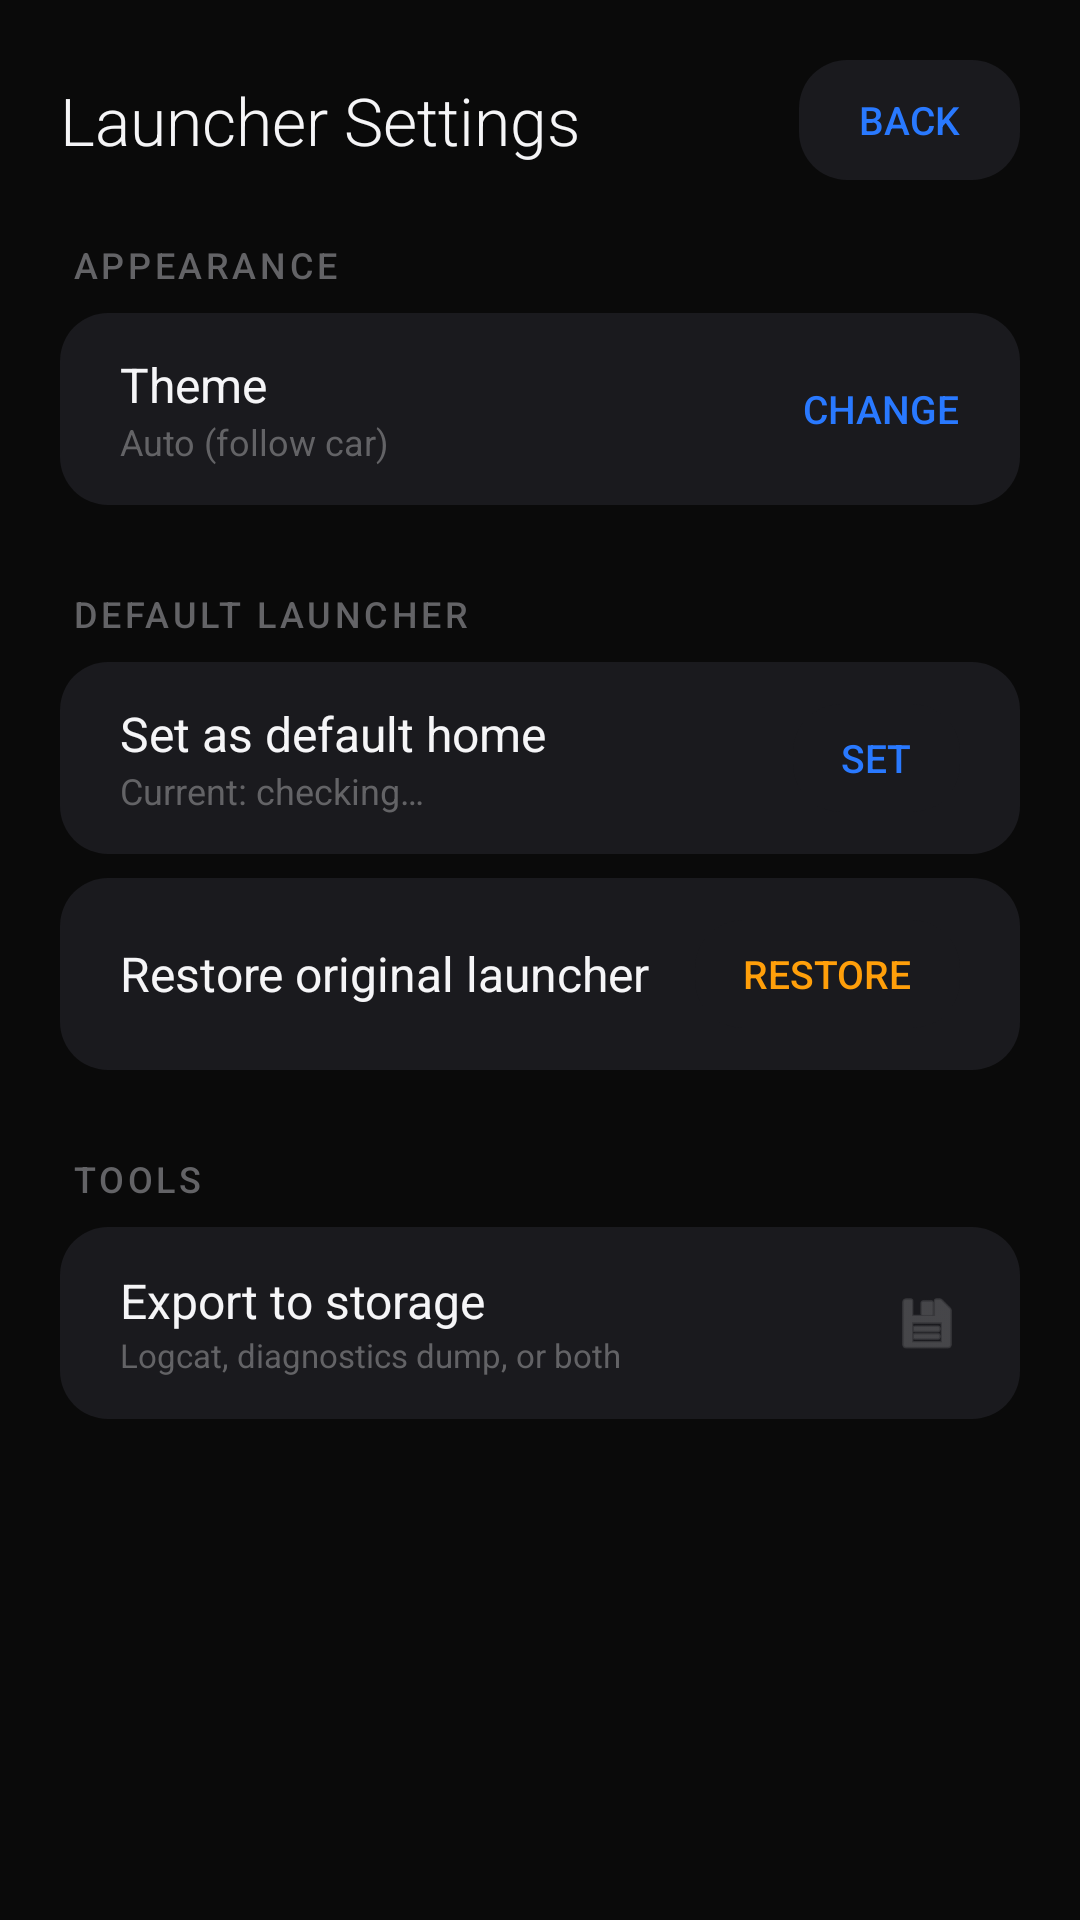

Where icons sit on this 1080x1920 app screen, as (x1, y1, x2, y2):
save: (903, 1299, 951, 1348)
